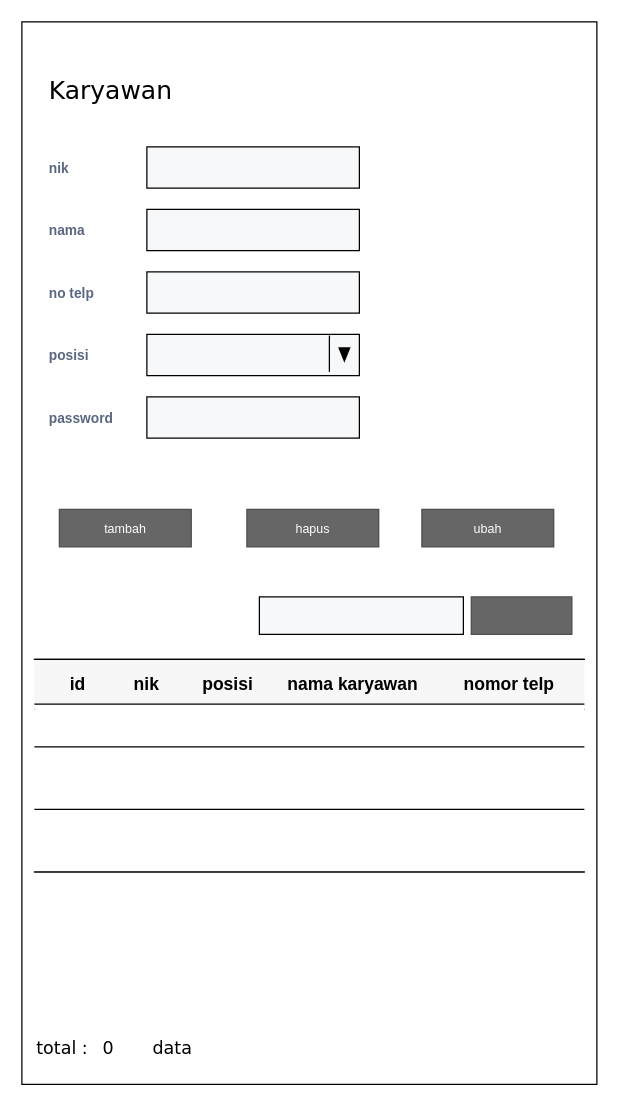
This 619x1106 diagram has some shape labels left out. The shapes that lost their labels are listed below. From the top down, each one's centre as x and y in pixels, then its label:
pixel 252 354: pilih posisi
pixel 521 615: cari
